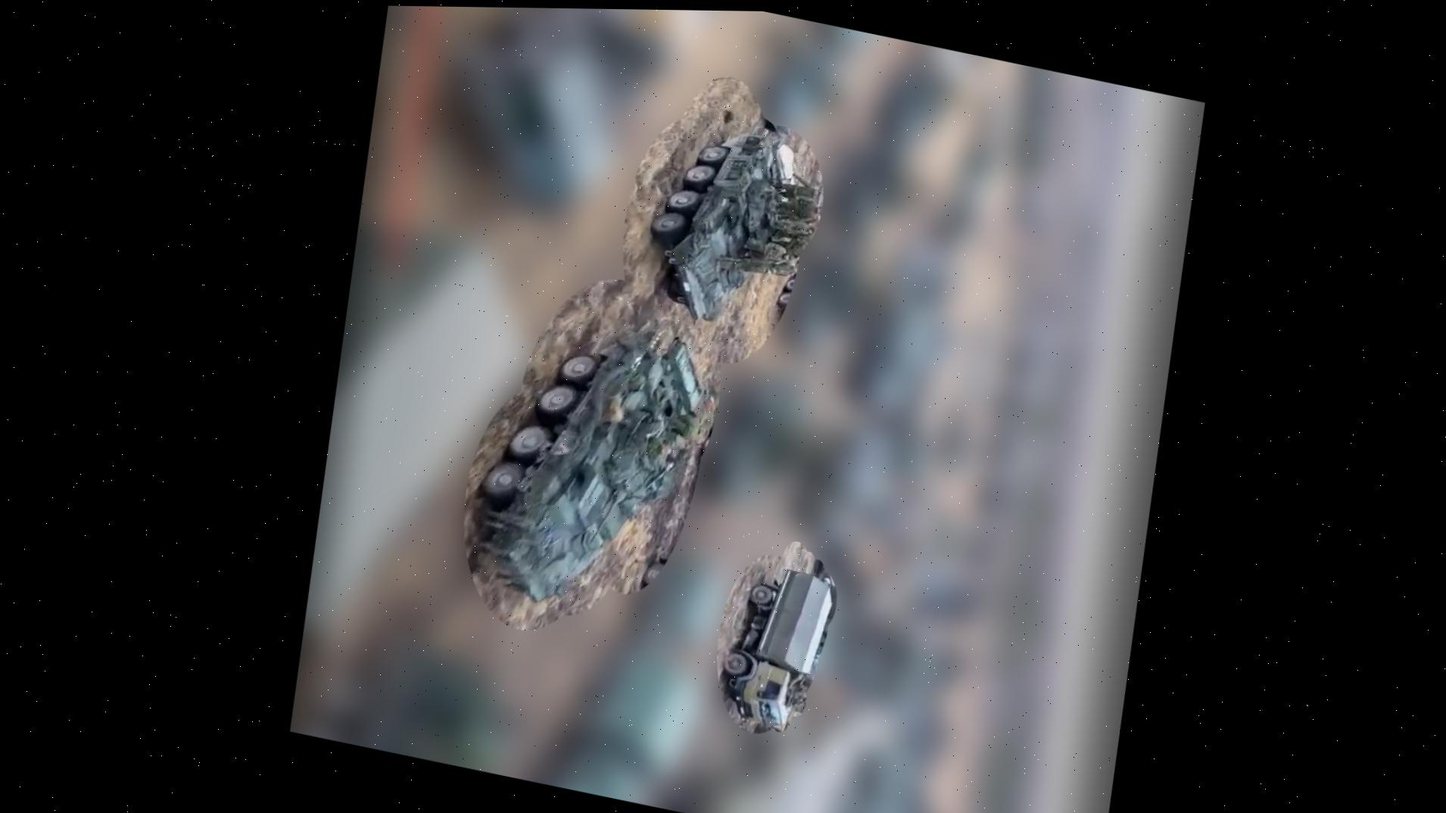armored_car: (447, 295, 733, 634), (627, 105, 828, 343)
truck: (699, 549, 849, 746)
